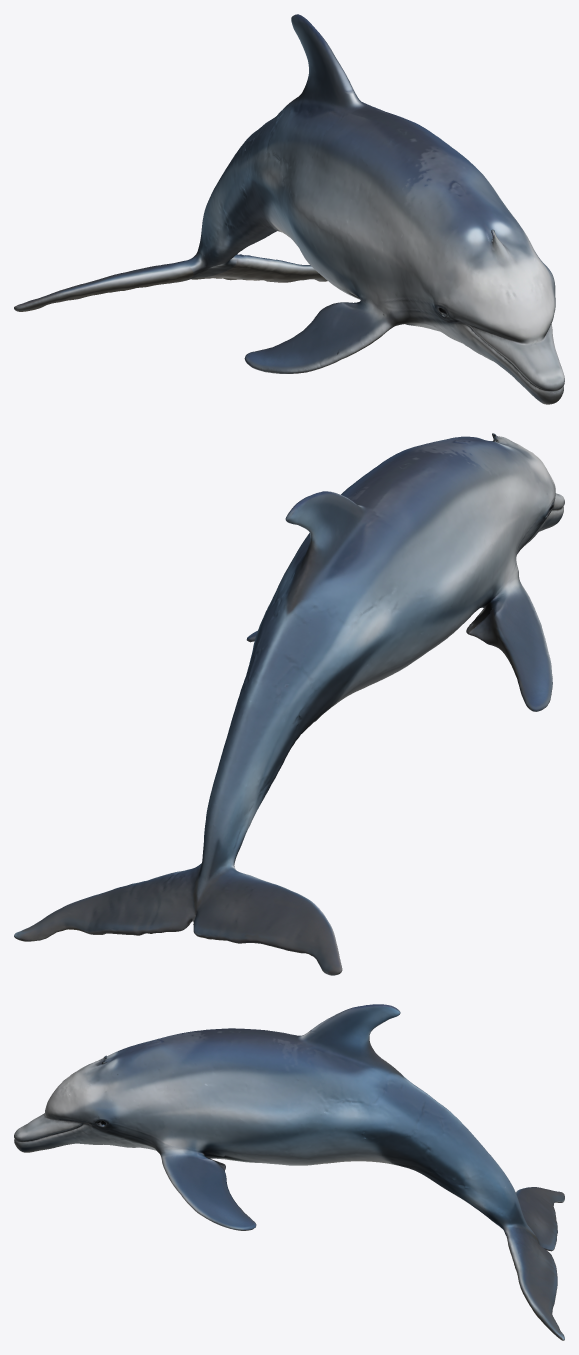
File: dolphin.glb
3 renders of one model, top to bottom at view 1: azimuth 30°, elevation 25°; view 2: azimuth 150°, elevation 25°; view 3: azimuth 270°, elevation 25°, orthographic. The views are drawn at different scales.
Bounding box in the file's own units: 0.9438 × 1.07 × 1.9.
Materials: 1 (1 with a texture image).
